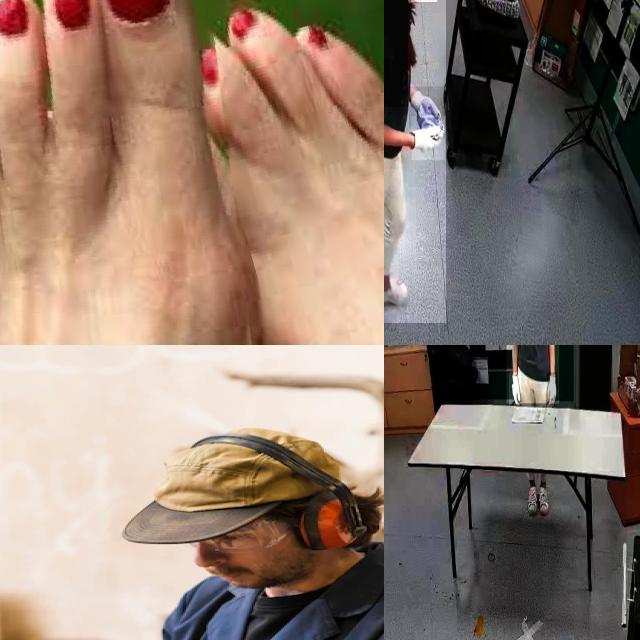Barefoots: (0, 0, 259, 345), (161, 7, 384, 345)
Ear-protection: (297, 486, 384, 555)
hand_glove: (412, 116, 446, 161), (409, 87, 445, 129), (509, 372, 521, 406), (546, 372, 558, 406)
person: (384, 0, 446, 324), (506, 345, 559, 404)
shoes: (525, 481, 539, 518), (539, 481, 551, 518)
